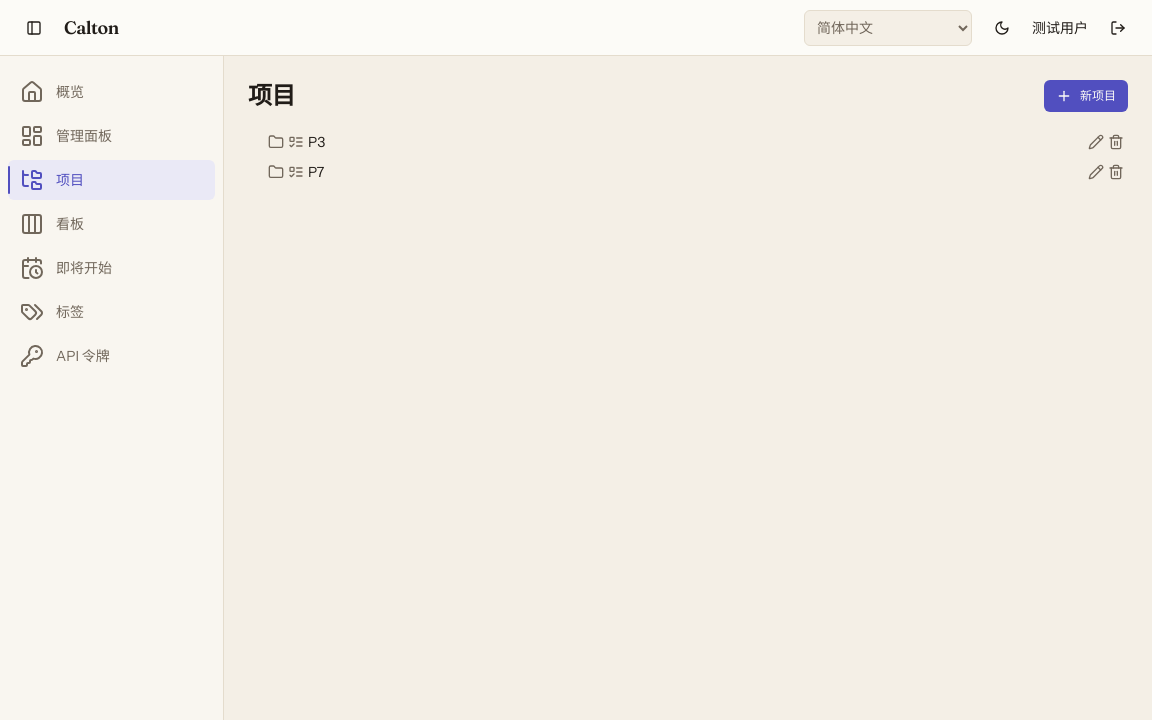
Test case: 编辑项目 › ★ 只有 write 权限时，上级项目选择器整个禁用并说明原因（第 2 道闸）
Click the button named "编辑 P3" at (1096, 142), box [1088,134,1104,150]
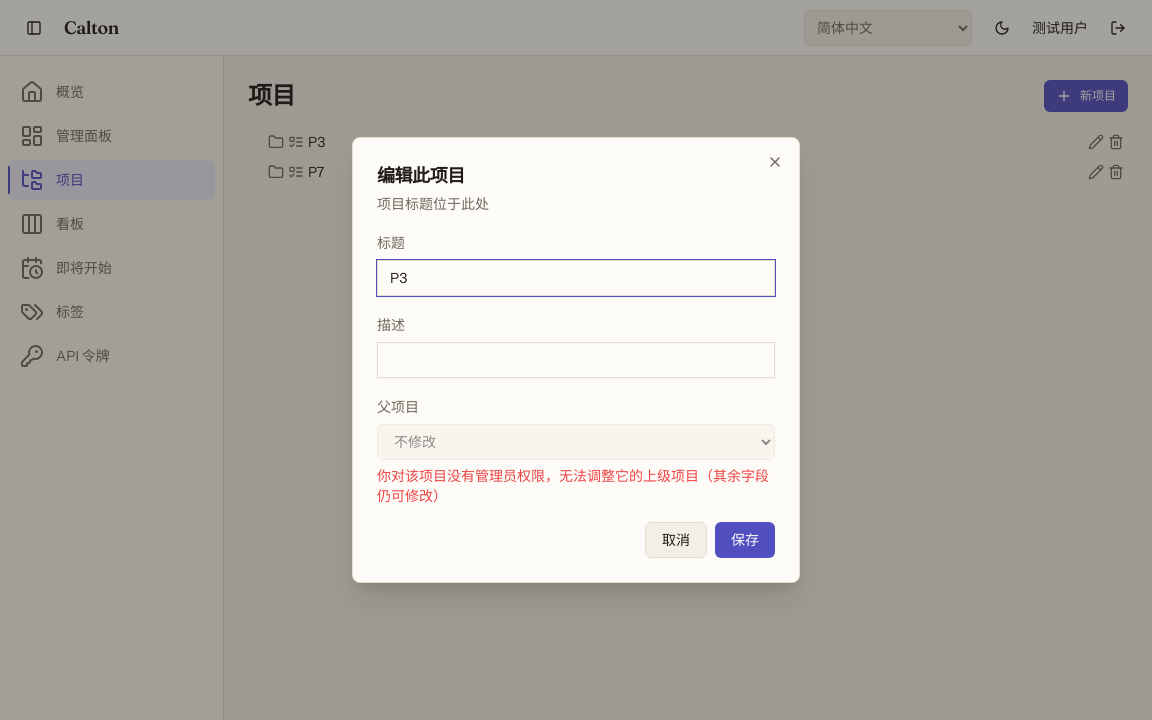
Expected: the dropdown with test id "project-parent-select" is disabled, [377,424,775,460]
Expected: the dialog with test id "project-form" shows "没有管理员权限，无法调整它的上级项目", [377,467,769,505]
Expected: the field with test id "project-title-input" is enabled, [377,260,775,296]
